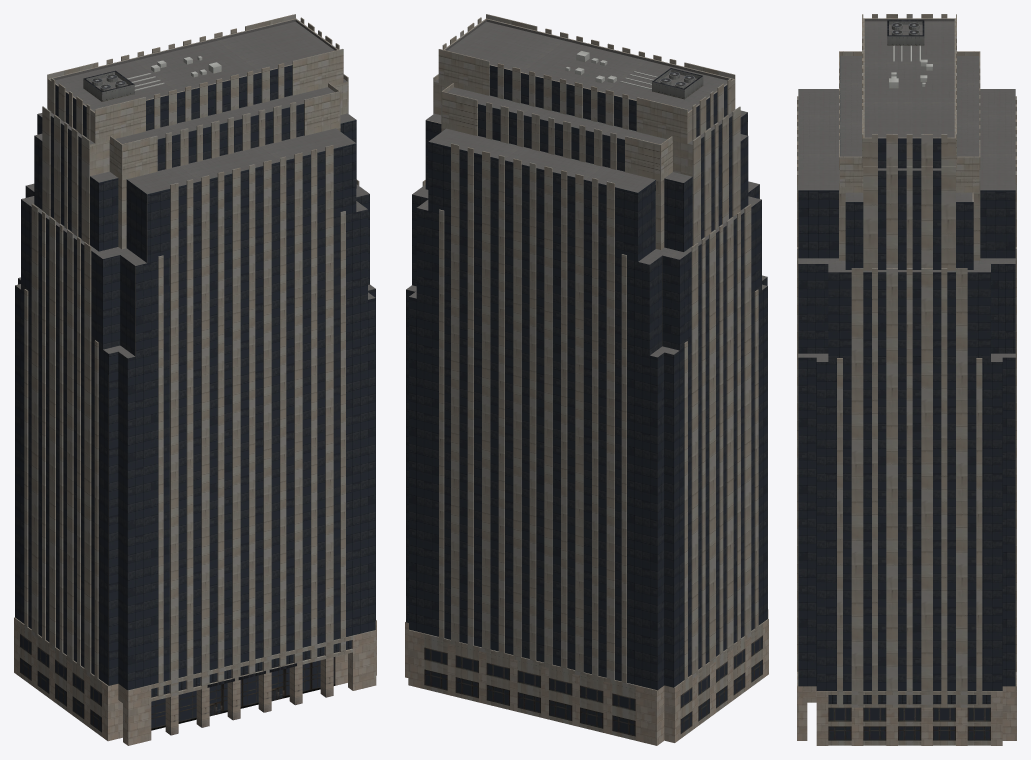
Rendered from deco_tower.glb.
3 views of the same model, side by side, from view 1: azimuth 30°, elevation 25°; view 2: azimuth 150°, elevation 25°; view 3: azimuth 270°, elevation 25° (orthographic).
Parts seen in each view (by area): view 1: deco_tower; view 2: deco_tower; view 3: deco_tower.
Boxes of the visible parts, x1,y1,x2,y2 form: deco_tower: (14,14,376,745); deco_tower: (405,14,768,745); deco_tower: (797,14,1016,745).
Bounding box in the file's own units: 56 × 122 × 40.
Materials: 1 (1 with a texture image).
